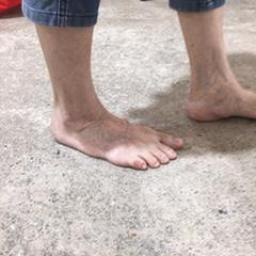Lateral View -Right Foot-: (40, 74, 184, 186)
